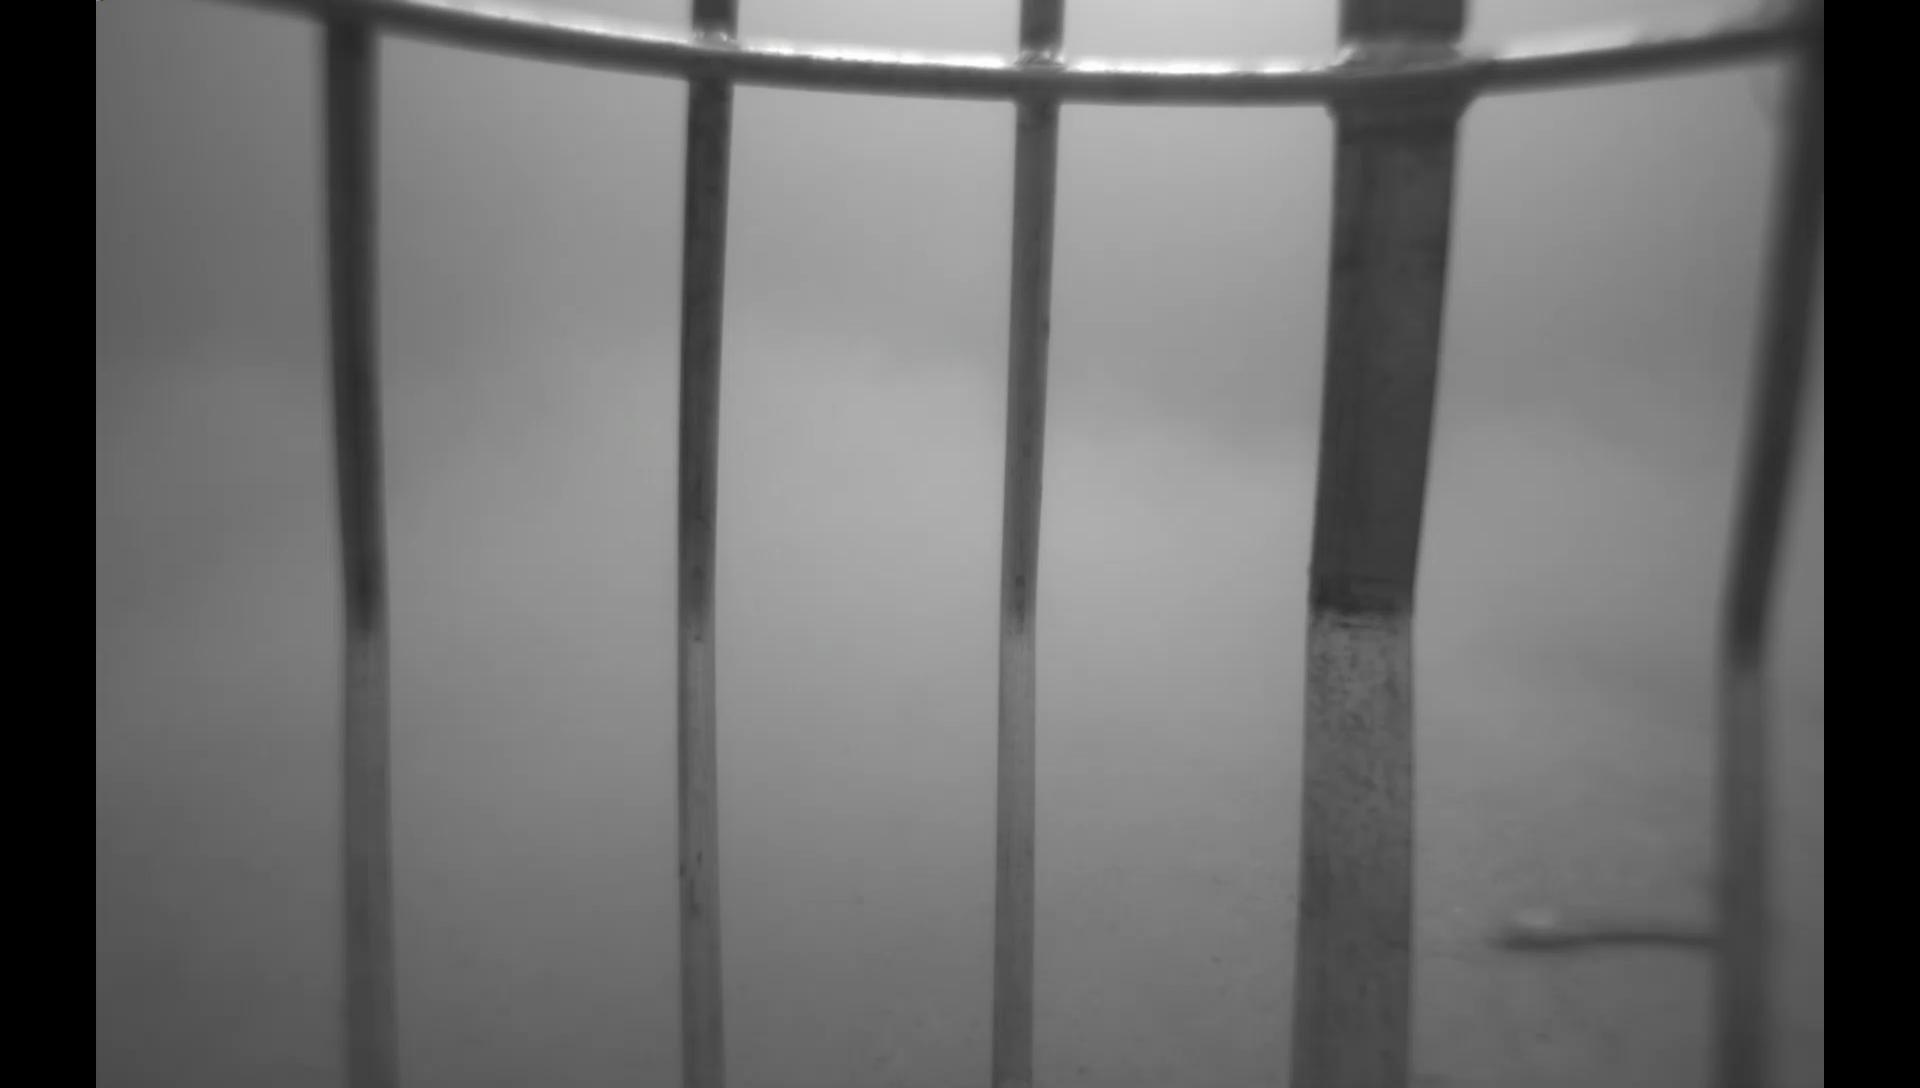OPHICHTHUSPUNCTICEPS-143150402: (1494, 845, 1729, 959)
